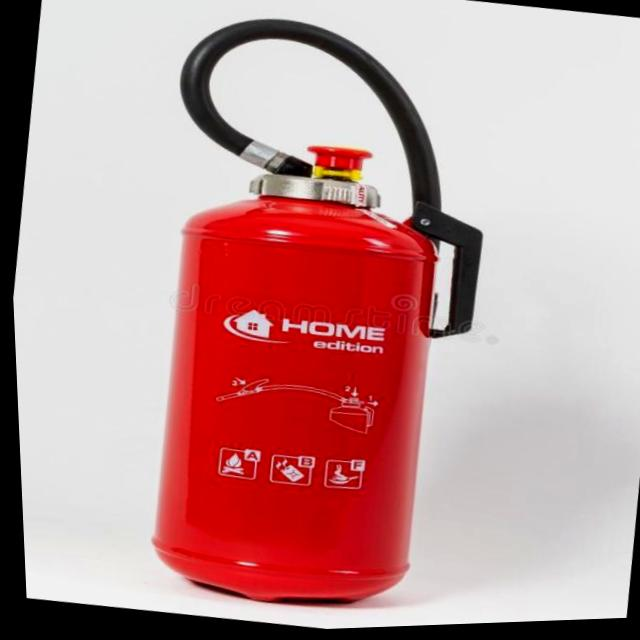FireExtinguisher: (93, 0, 525, 637)
